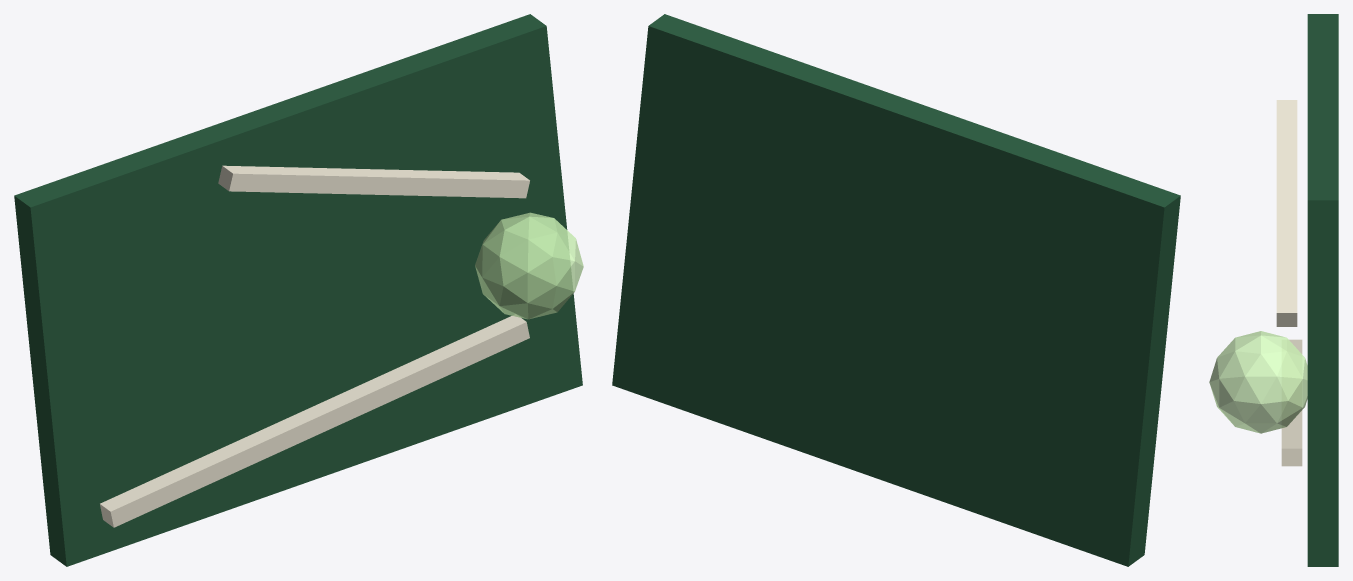
Rendered from 02_world_prop_polish.glb.
The picture shows the model from 3 angles, left to right: view 1: azimuth 30°, elevation 25°; view 2: azimuth 150°, elevation 25°; view 3: azimuth 270°, elevation 25°; orthographic projection. The views are drawn at different scales.
Visible parts, largest first — view 1: object_overlay_plate, edge_wear_a, glow_socket, edge_wear_b; view 2: object_overlay_plate; view 3: object_overlay_plate, glow_socket, edge_wear_b, edge_wear_a.
Part boxes in pixels (x1,y1,x2,y2): object_overlay_plate: (14,14,582,566); edge_wear_a: (100,315,529,527); glow_socket: (475,212,583,319); edge_wear_b: (218,165,529,198); object_overlay_plate: (612,14,1180,566); object_overlay_plate: (1307,14,1338,566); glow_socket: (1209,331,1307,433); edge_wear_b: (1276,100,1297,326); edge_wear_a: (1281,339,1302,466).
Size of the model in its own units: 1.17 by 0.8588 by 0.25.
